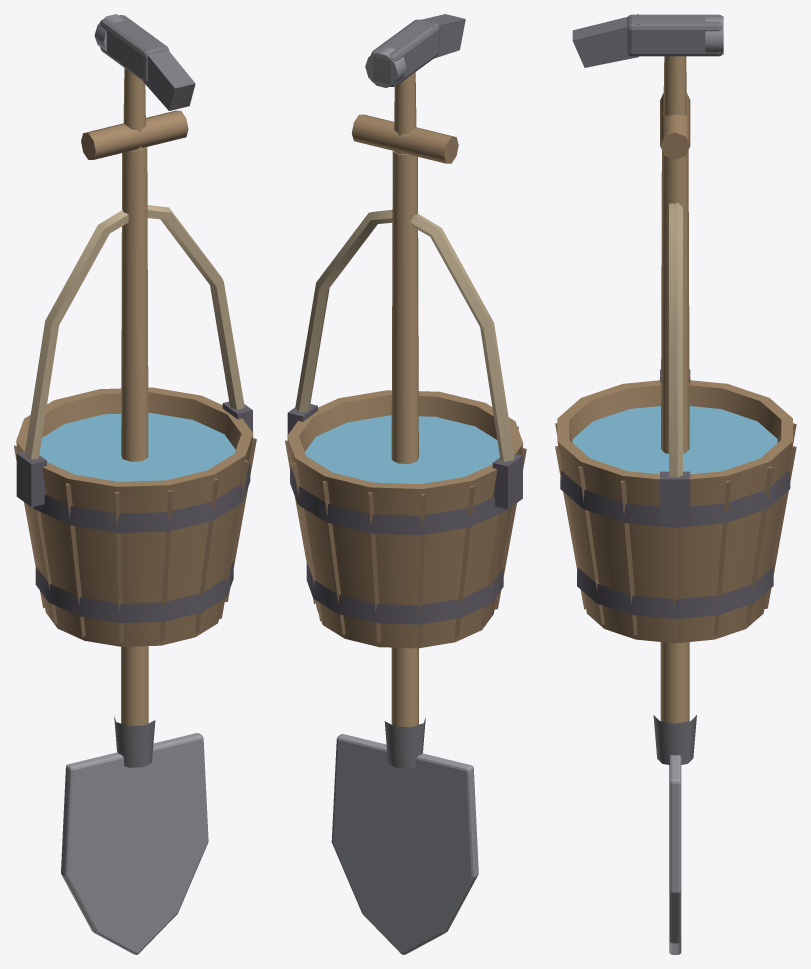
Rendered from tools.glb.
3 views of the same model, side by side, from view 1: azimuth 30°, elevation 25°; view 2: azimuth 150°, elevation 25°; view 3: azimuth 270°, elevation 25° (orthographic). The views are drawn at different scales.
Visible parts, largest first — view 1: bucket, shovel, hammer; view 2: bucket, shovel, hammer; view 3: bucket, shovel, hammer.
Part boxes in pixels (x1,y1,x2,y2): bucket: (14,205,256,646); shovel: (61,110,208,954); hammer: (94,14,195,150); bucket: (285,209,526,648); shovel: (331,114,478,954); hammer: (365,14,465,154); bucket: (555,202,796,643); shovel: (653,92,696,954); hammer: (572,14,723,115).
Size of the model in its own units: 0.43 by 1.71 by 0.3994.
